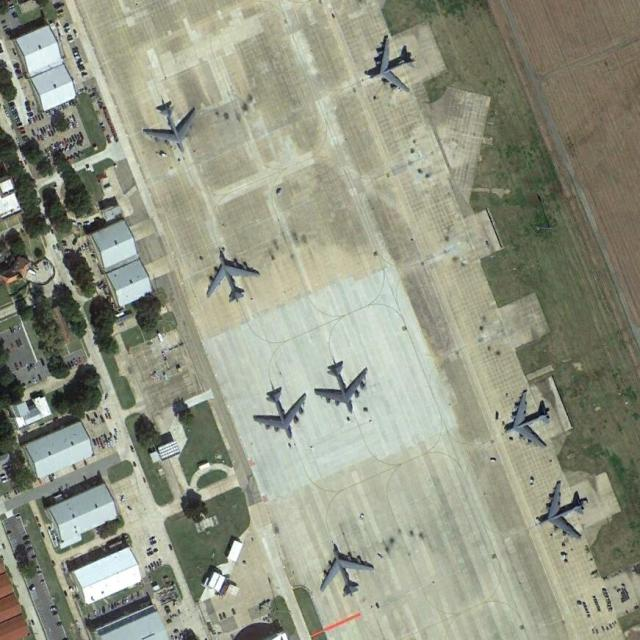fighter jet: (323, 532, 380, 600), (541, 485, 590, 547), (207, 248, 259, 302), (365, 39, 416, 93), (147, 100, 199, 152), (503, 390, 549, 447), (256, 390, 305, 441), (318, 366, 367, 416)
